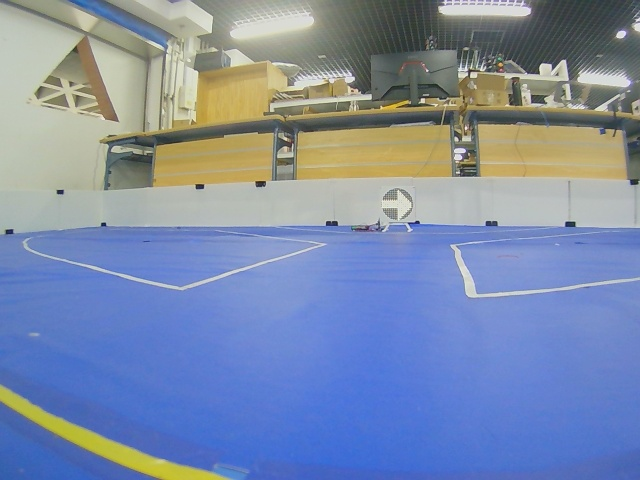right_yellow: (381, 188, 414, 222)
